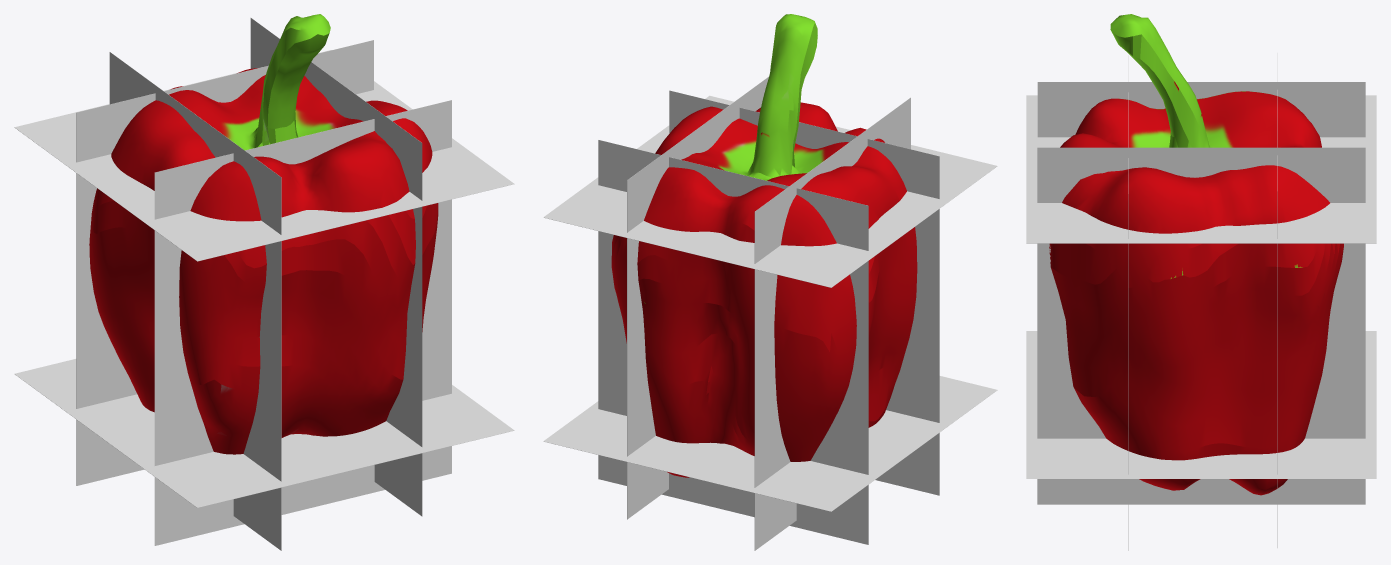
Rendered from Paprika.fbx.
3 renders of one model, left to right at view 1: azimuth 30°, elevation 25°; view 2: azimuth 150°, elevation 25°; view 3: azimuth 270°, elevation 25°, orthographic. The views are drawn at different scales.
Parts seen in each view (by area): view 1: Paprika.006, Schnittstelle2, Schnittstelle1, Paprika, SchnittstelleS4.002, Paprika.008, Paprika.001, Paprika.007, SchnittstelleS4.001, SchnittstelleS4, SchnittstelleS3, SchnittstelleS3.002 (+11 smaller); view 2: Paprika.015, Schnittstelle2, Schnittstelle1, Paprika.011, Paprika.008, SchnittstelleS3.002, Paprika.001, SchnittstelleS4.002, Paprika.014, SchnittstelleS3, SchnittstelleS3.001, SchnittstelleS1.002 (+12 smaller); view 3: Paprika.021, SchnittstelleS2.002, Schnittstelle2, Schnittstelle1, Paprika.017, SchnittstelleS2, Paprika.008, Paprika.023, SchnittstelleS1, Paprika.019, SchnittstelleS2.001, Paprika.016 (+4 smaller).
Part boxes in pixels (<box>): Paprika.006: <box>281,209,415,437</box>; Schnittstelle2: <box>14,359,514,507</box>; Schnittstelle1: <box>14,50,514,261</box>; Paprika: <box>179,245,266,454</box>; SchnittstelleS4.002: <box>154,199,451,465</box>; Paprika.008: <box>169,14,363,150</box>; Paprika.001: <box>89,188,154,412</box>; Paprika.007: <box>254,131,409,217</box>; SchnittstelleS4.001: <box>154,446,451,545</box>; SchnittstelleS4: <box>154,100,451,219</box>; SchnittstelleS3: <box>76,40,373,162</box>; SchnittstelleS3.002: <box>76,173,136,408</box>; Paprika.015: <box>637,241,754,455</box>; Schnittstelle2: <box>543,376,997,511</box>; Schnittstelle1: <box>543,95,997,287</box>; Paprika.011: <box>774,274,856,461</box>; Paprika.008: <box>681,14,848,186</box>; SchnittstelleS3.002: <box>598,231,868,474</box>; Paprika.001: <box>868,227,917,427</box>; SchnittstelleS4.002: <box>886,209,939,422</box>; Paprika.014: <box>644,167,784,242</box>; SchnittstelleS3: <box>598,140,868,250</box>; SchnittstelleS3.001: <box>598,455,868,544</box>; SchnittstelleS1.002: <box>754,269,790,487</box>; Paprika.021: <box>1128,243,1277,460</box>; SchnittstelleS2.002: <box>1037,243,1365,438</box>; Schnittstelle2: <box>1026,331,1376,478</box>; Schnittstelle1: <box>1026,95,1376,243</box>; Paprika.017: <box>1049,243,1128,450</box>; SchnittstelleS2: <box>1037,147,1365,202</box>; Paprika.008: <box>1110,14,1277,147</box>; Paprika.023: <box>1278,243,1343,452</box>; SchnittstelleS1: <box>1037,82,1365,137</box>; Paprika.019: <box>1128,165,1277,233</box>; SchnittstelleS2.001: <box>1037,479,1365,504</box>; Paprika.016: <box>1062,169,1128,229</box>.
Bounding box in the file's own units: 320 × 472 × 320.
